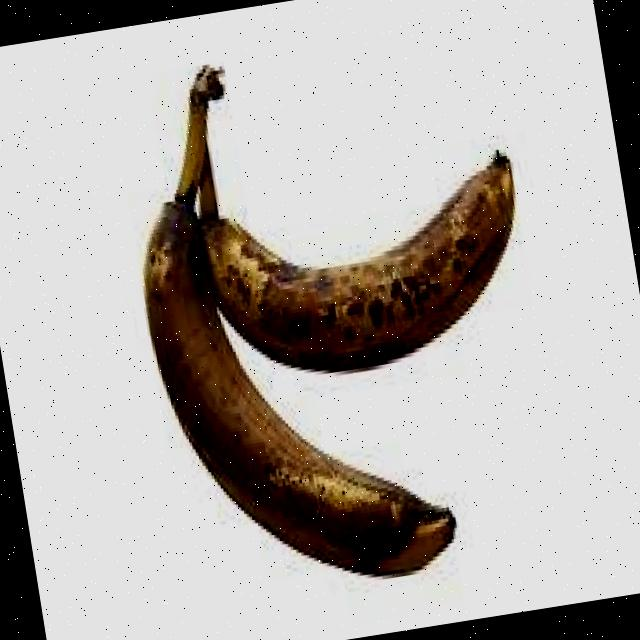Rotten: (106, 130, 477, 617), (192, 126, 554, 411)
